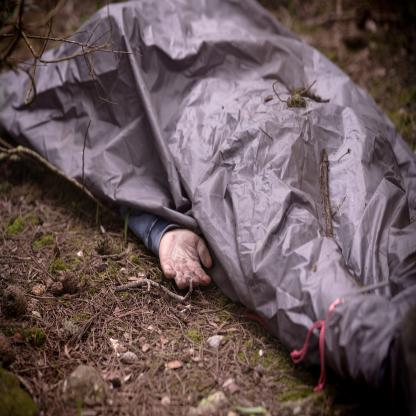hand: (128, 205, 216, 297)
